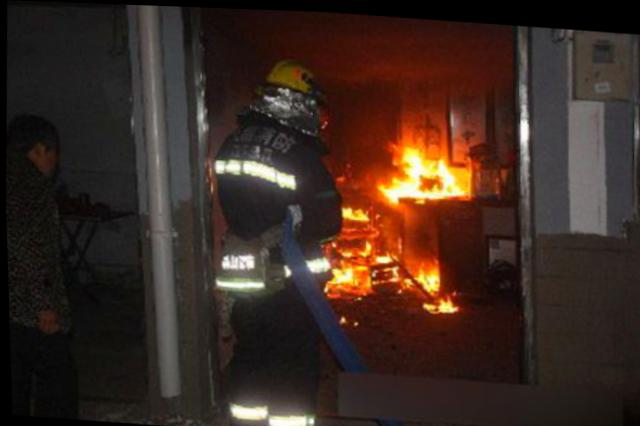fire: (322, 260, 369, 292), (380, 173, 421, 197), (415, 255, 440, 288), (434, 154, 455, 192), (396, 140, 422, 170), (421, 289, 457, 310), (338, 236, 371, 256), (337, 200, 371, 219), (374, 246, 389, 258), (388, 261, 397, 276)
